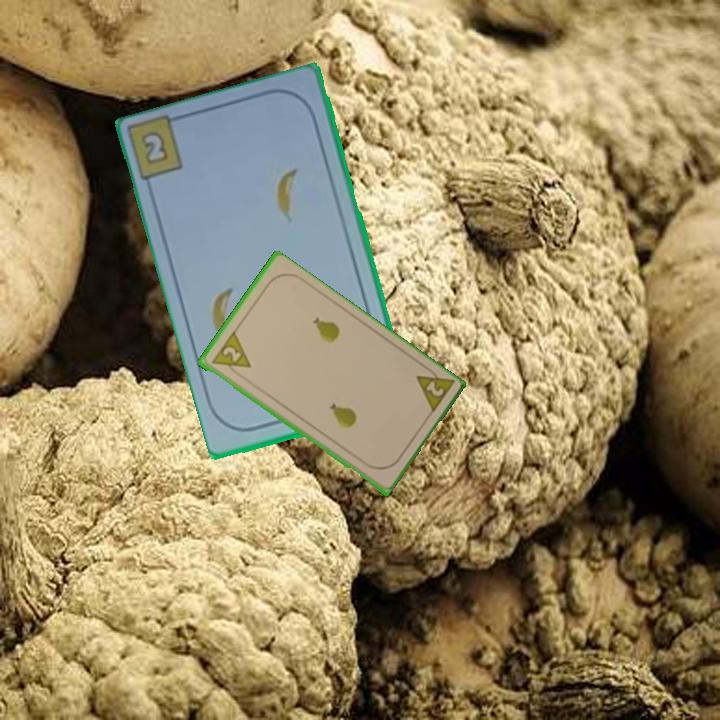2b: (137, 127, 172, 168)
2p: (412, 361, 456, 417), (207, 329, 253, 380)
